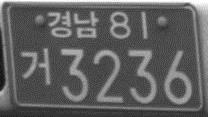1: (136, 12, 151, 38)
2: (93, 49, 124, 102)
3: (127, 49, 158, 104), (60, 47, 89, 102)
6: (164, 49, 192, 105)
8: (108, 11, 131, 38)
거: (19, 47, 51, 86)
경남_O: (46, 9, 100, 39)
